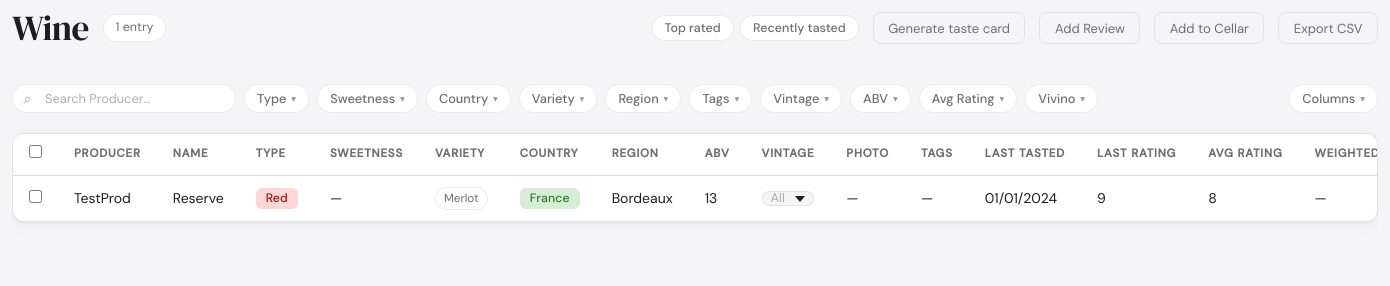
selecting exactly one vintage filter syncs all per-row vintage dropdowns
Expected: the text "Reserve" is shown, x1=157 y1=176 x2=240 y2=221
What coordinates should you click on to do the following:
click the button with test id "filter-dropdown-vintage"
I would click on:
 (801, 99)
Its box is x1=760 y1=84 x2=842 y2=113.
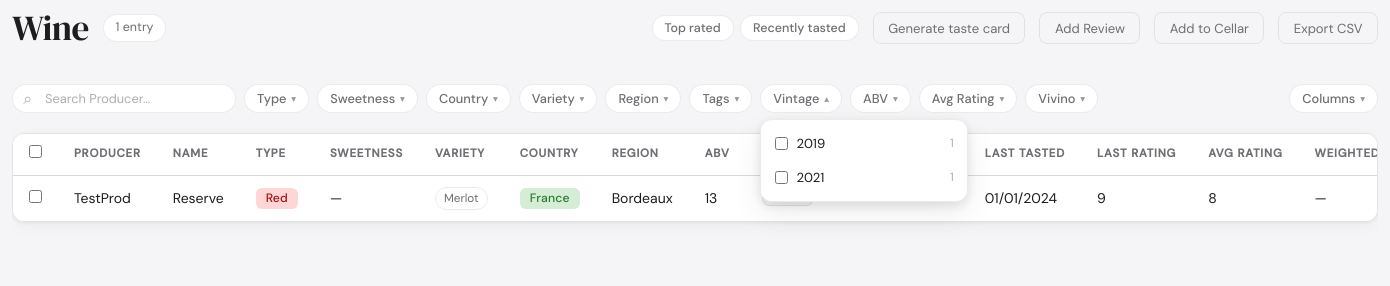
What coordinates should you click on to do the following:
click the checkbox labelled "2021 1"
I would click on:
 (782, 177)
Its box is x1=775 y1=171 x2=788 y2=184.
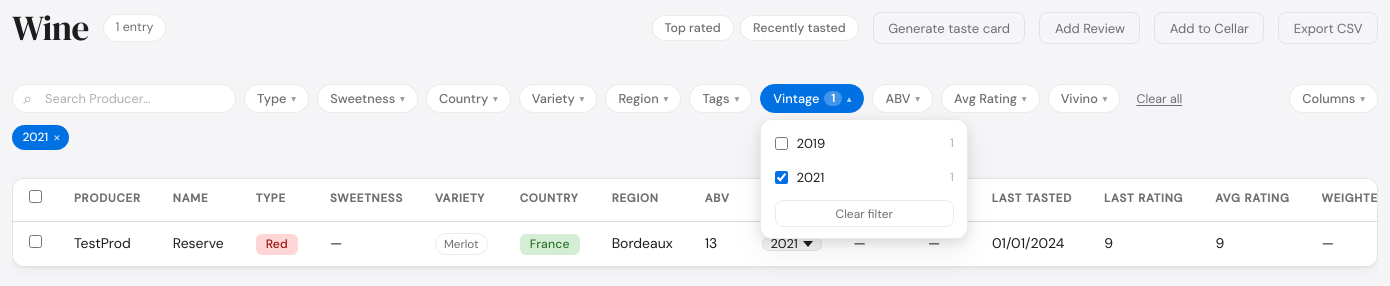
Expected: the button "2021" is shown, x1=762 y1=237 x2=822 y2=252
